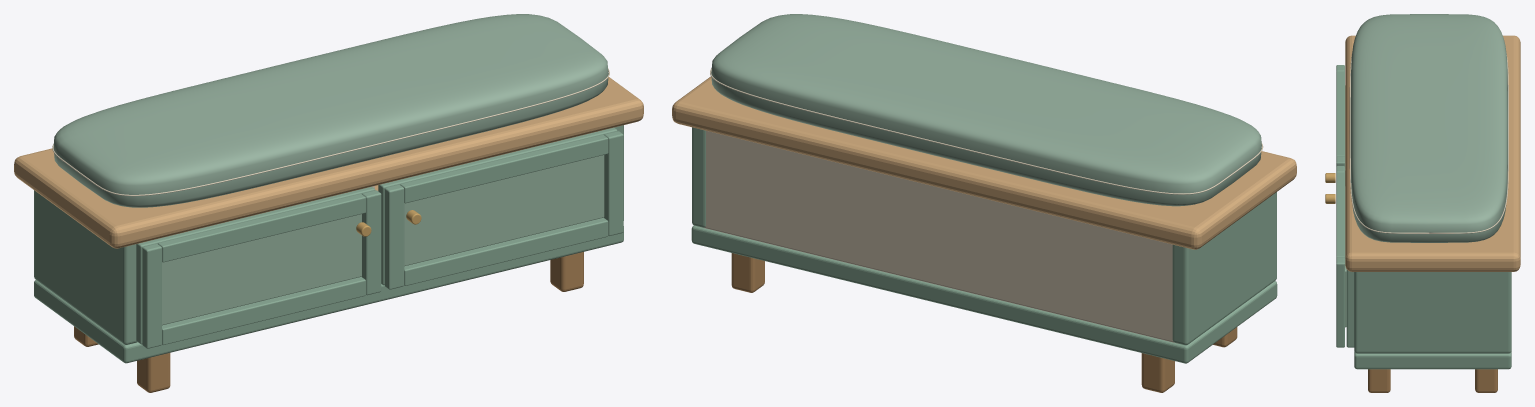
File: Shoe_Bench.glb
3 renders of one model, left to right at view 1: azimuth 30°, elevation 25°; view 2: azimuth 150°, elevation 25°; view 3: azimuth 270°, elevation 25°, orthographic. The views are drawn at different scales.
Parts seen in each view (by area): view 1: Shoe_Bench_Mesh, Door_Bench_Left_Mesh, Door_Bench_Right_Mesh; view 2: Shoe_Bench_Mesh; view 3: Shoe_Bench_Mesh, Door_Bench_Right_Mesh, Door_Bench_Left_Mesh.
Part boxes in pixels (x1,y1,x2,y2): Shoe_Bench_Mesh: (14,14,643,392); Door_Bench_Left_Mesh: (136,186,381,348); Door_Bench_Right_Mesh: (378,127,623,289); Shoe_Bench_Mesh: (672,14,1296,392); Shoe_Bench_Mesh: (1345,14,1520,392); Door_Bench_Right_Mesh: (1325,166,1354,347); Door_Bench_Left_Mesh: (1325,65,1345,185).
Size of the model in its own units: 1.47 by 0.593 by 0.5455.
